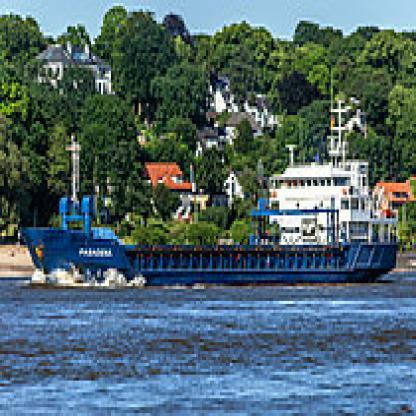Container Ship: (18, 95, 400, 286)
